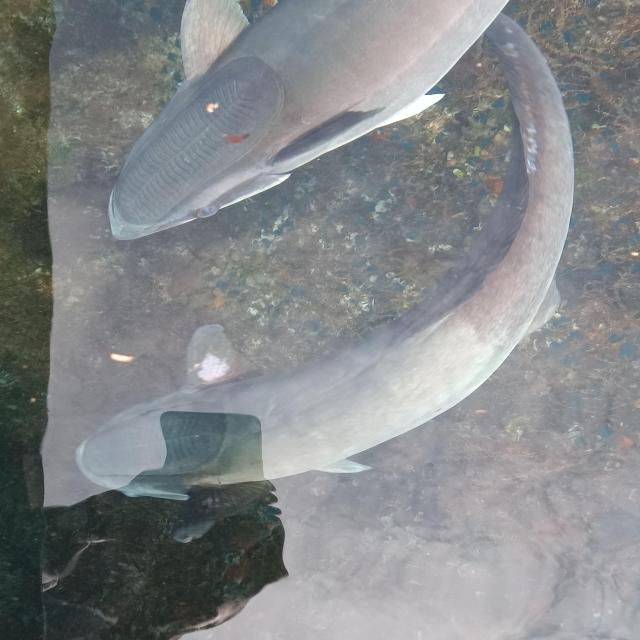ikan: (74, 10, 576, 539), (106, 0, 511, 241)
